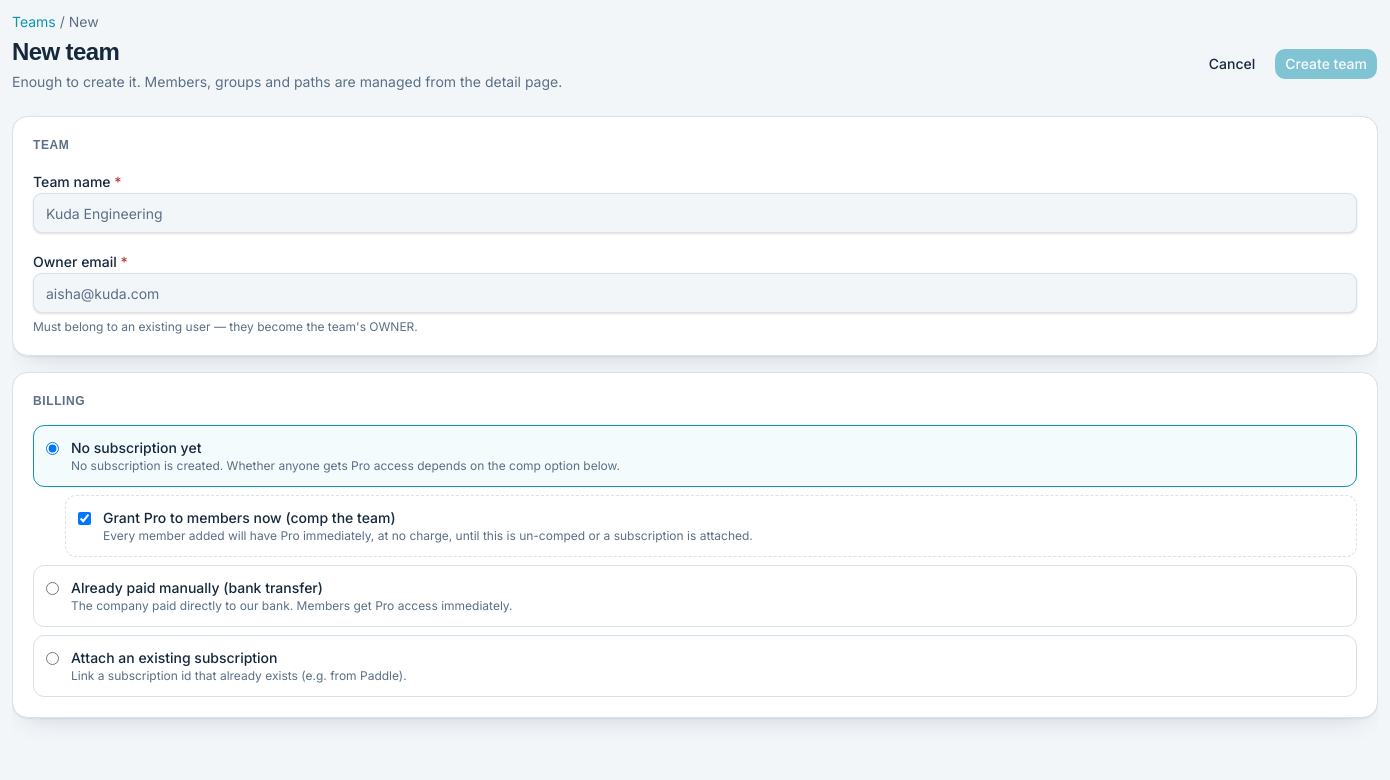
Test case: NewTeamClient › disables Create until name and owner email are both filled
Expected: the button "Create team" is disabled, [1274,48,1378,80]
Type "Kuda" into the field labelled "Team name *" at (695, 213), box [33,193,1357,233]
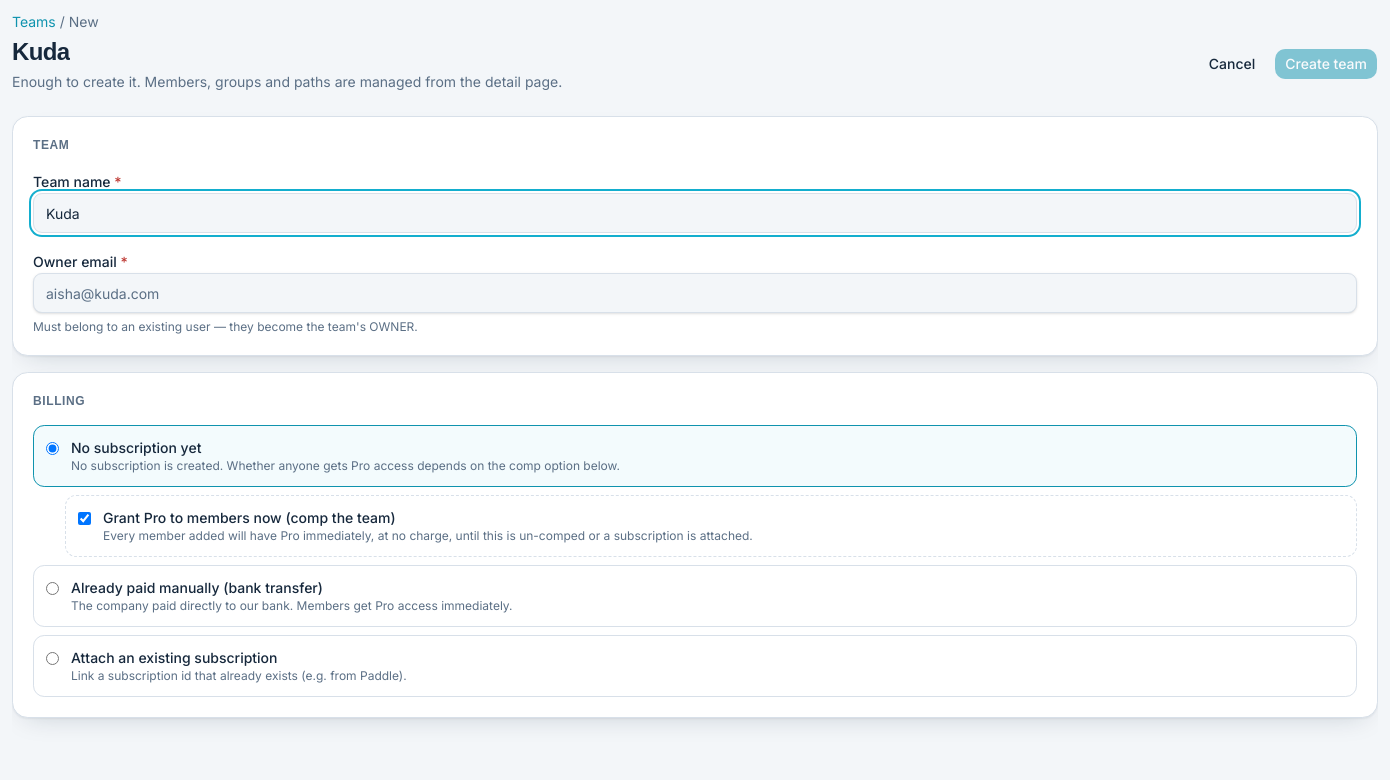
Expected: the button "Create team" is disabled, [1274,48,1378,80]
Type "a@kuda.com" into the field labelled "Owner email *" at (695, 293), box [33,273,1357,313]
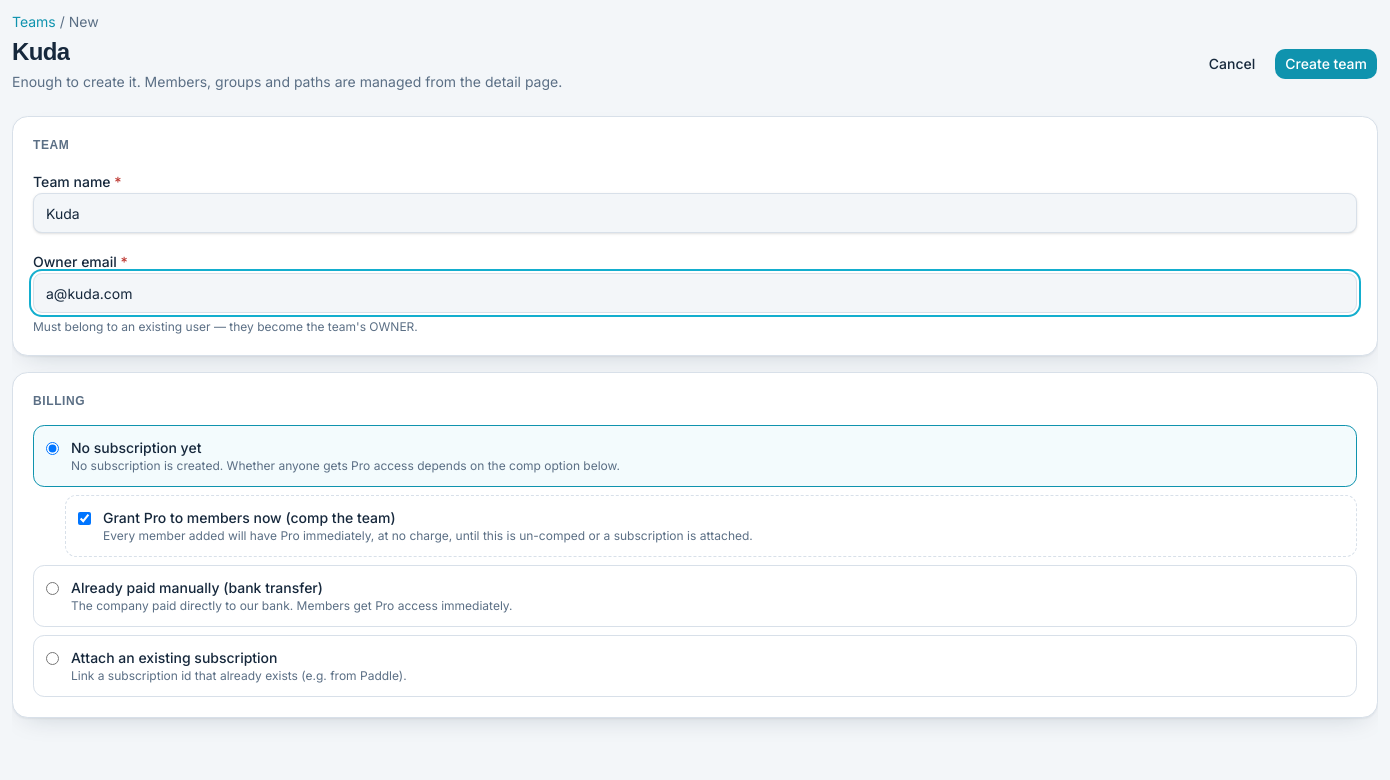
Now the button "Create team" is enabled, box [1274,48,1378,80]
